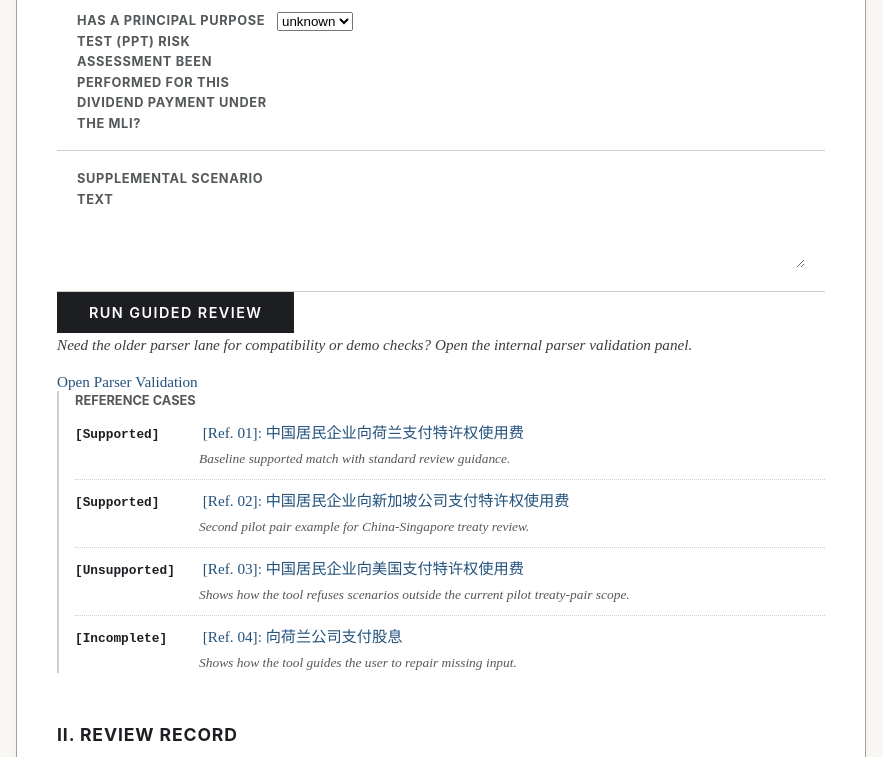
Test: renders a bounded fact-completion form for CN-NL dividend branch ambiguity
The width and height of the screenshot is (883, 757).
(page scrolled)
Click the button "Open Parser Validation": (127, 382) x1=57 y1=373 x2=198 y2=391
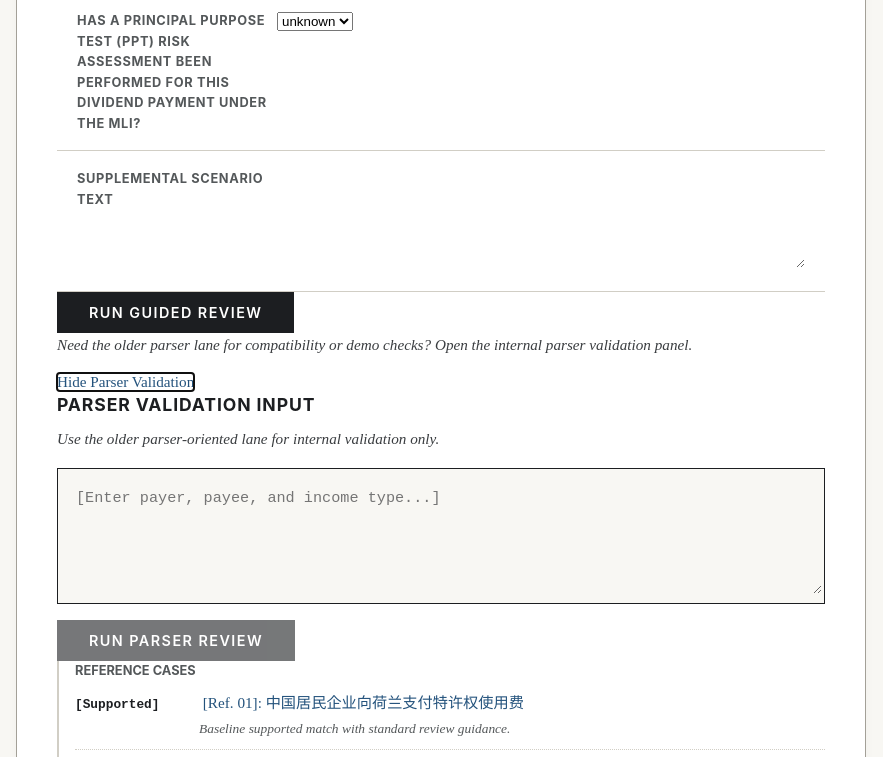
In the text box named "cross-border scenario": (441, 532) x1=60 y1=471 x2=822 y2=594, type "中国公司向荷兰公司支付股息"
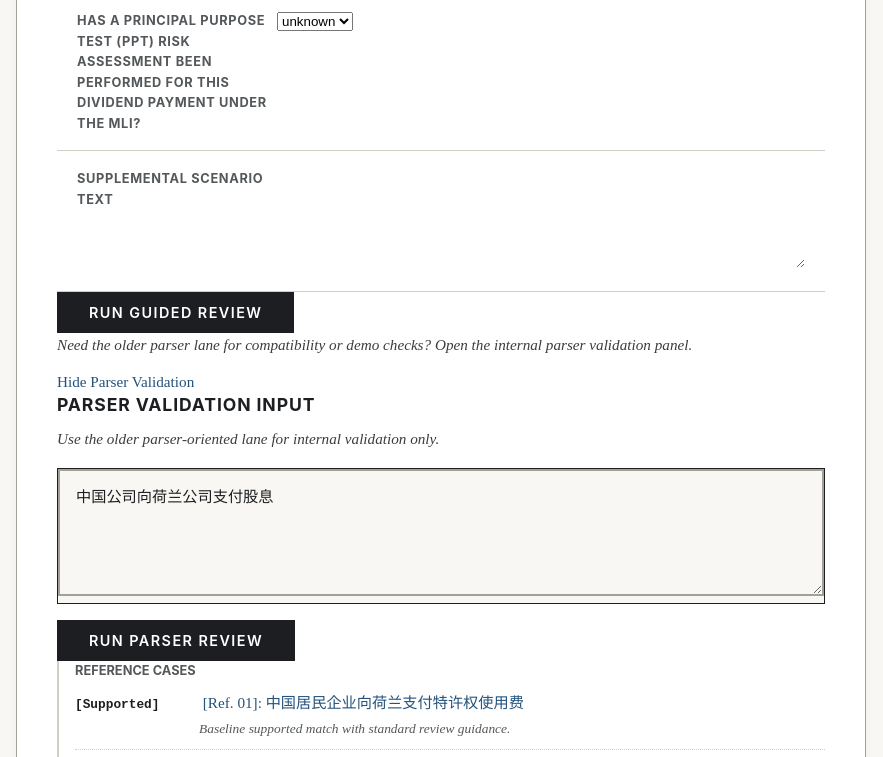
Click the button "Run Parser Review": (176, 641) x1=57 y1=620 x2=295 y2=661
(page scrolled)
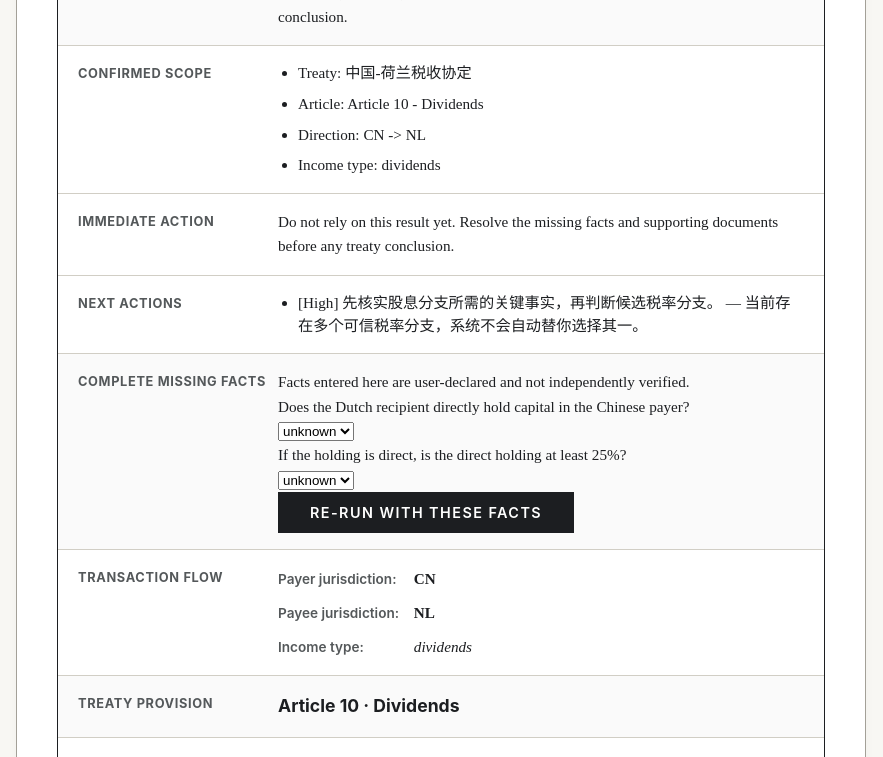
Result: the text "Complete Missing Facts" is shown at x1=78 y1=374 x2=266 y2=389
Result: the text "Does the Dutch recipient directly hold capital in the Chinese payer" is shown at x1=278 y1=398 x2=690 y2=415
Result: the text "If the holding is direct, is the direct holding at least 25%" is shown at x1=278 y1=446 x2=626 y2=463
